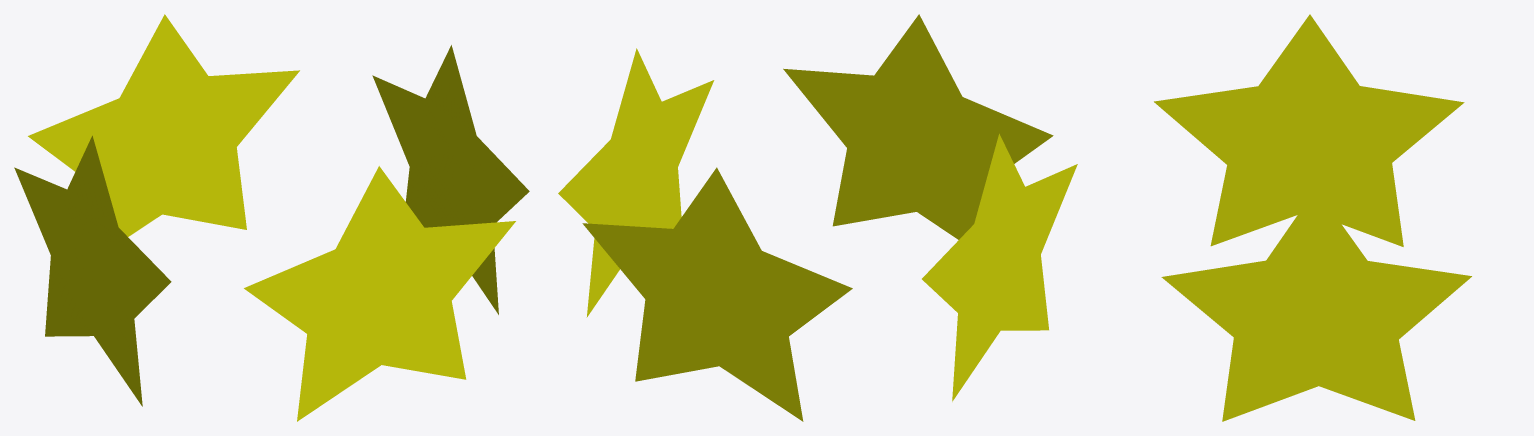
File: _izzy 1.fbx
3 renders of one model, left to right at view 1: azimuth 30°, elevation 25°; view 2: azimuth 150°, elevation 25°; view 3: azimuth 270°, elevation 25°, orthographic.
Parts seen in each view (by area): view 1: Star003 (×2), Star001, Star002; view 2: Star003 (×2), Star001, Star002; view 3: Star003, Star002.
Part boxes in pixels (bbox=[...]): Star003 (×2): bbox=[244, 45, 529, 421]; Star001: bbox=[28, 14, 299, 236]; Star002: bbox=[14, 135, 171, 406]; Star003 (×2): bbox=[558, 14, 1053, 317]; Star001: bbox=[582, 167, 852, 421]; Star002: bbox=[922, 133, 1077, 401]; Star003: bbox=[1161, 189, 1471, 421]; Star002: bbox=[1154, 14, 1464, 246].
Bounding box in the file's own units: 37.06 × 23.09 × 37.06.
